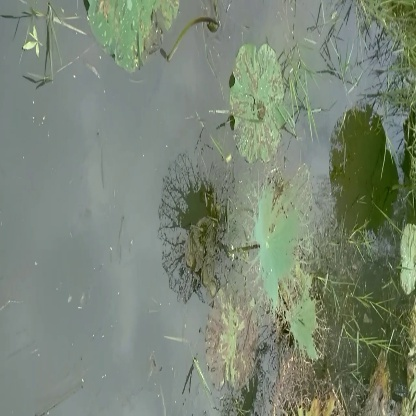leaf: (234, 168, 321, 301), (219, 36, 296, 162)
